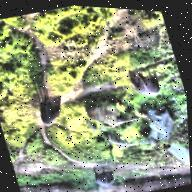boar: (32, 84, 70, 130), (126, 62, 162, 101), (92, 164, 117, 189)
